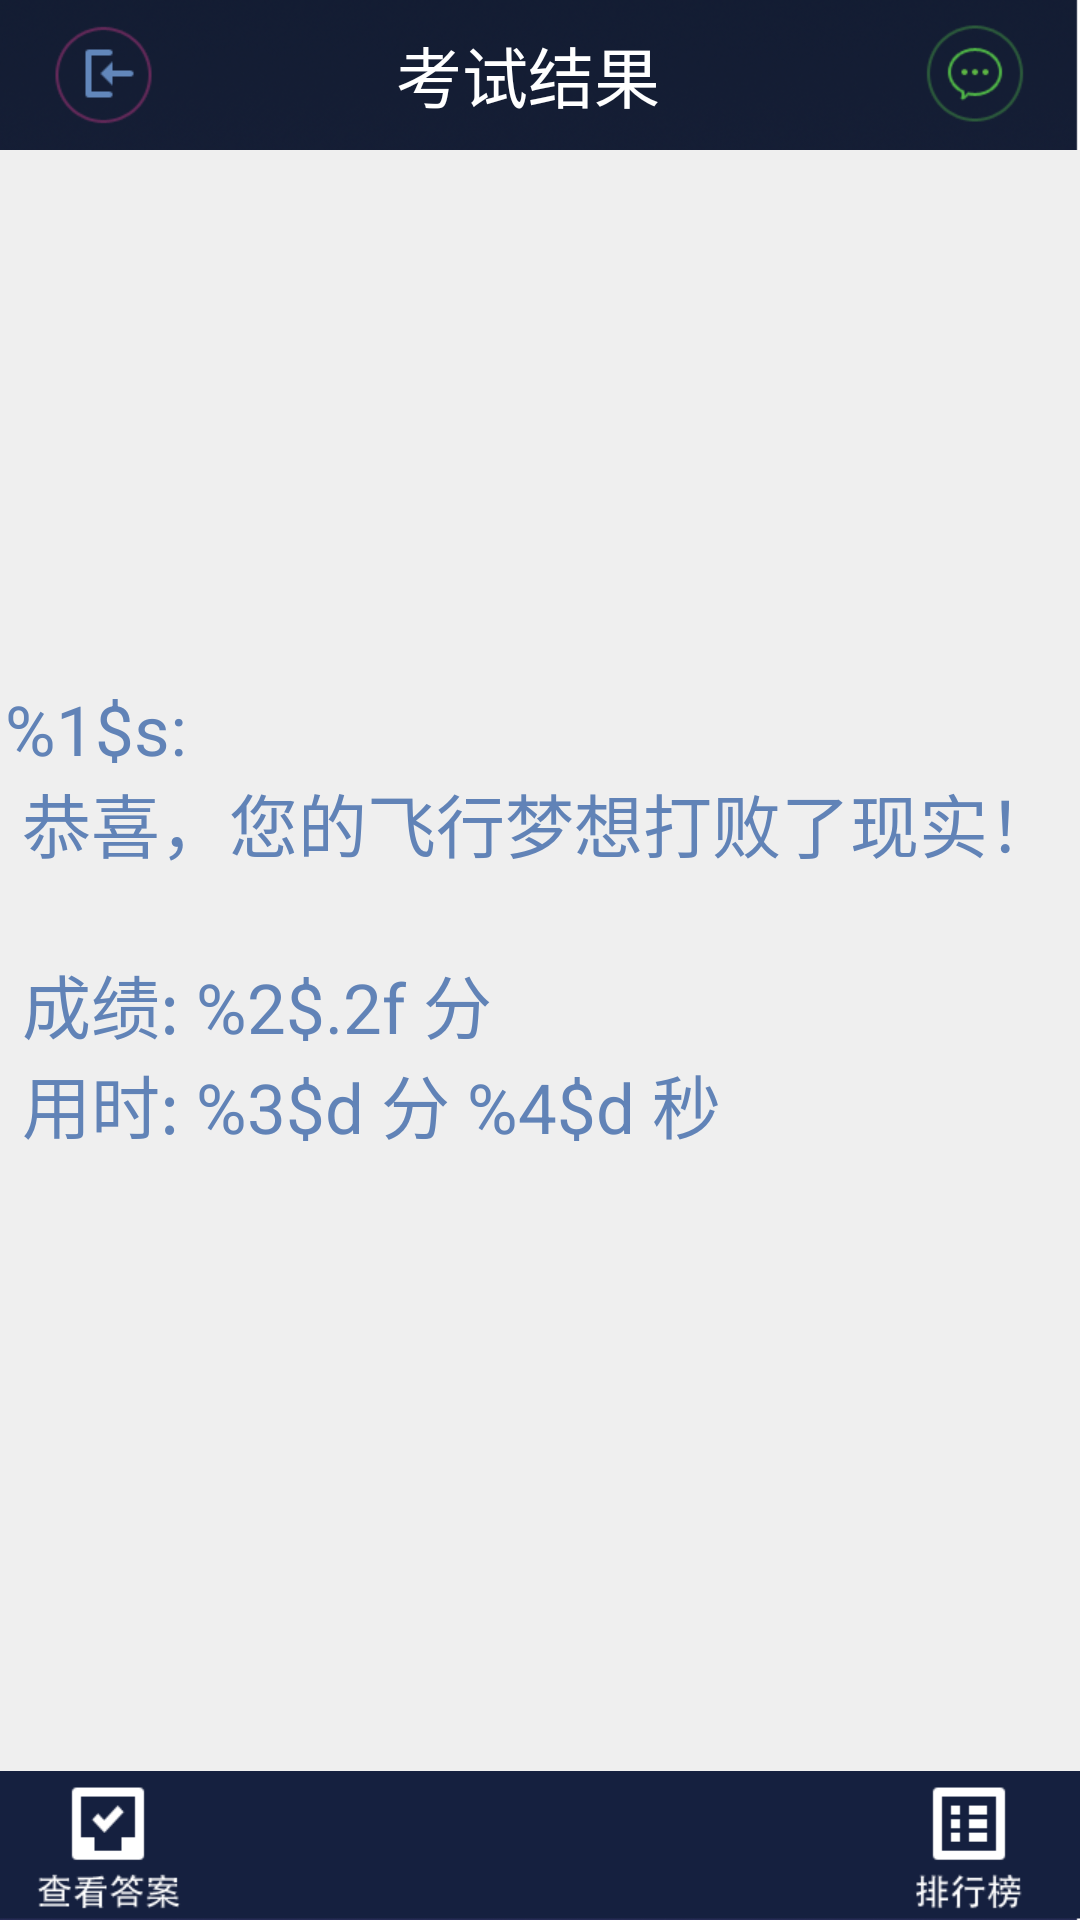

Named icons in this screenshot (1080px x 1920px) and their bounding boxes, detection(x1, y1, x2, y2):
exit: detection(55, 27, 152, 123)
